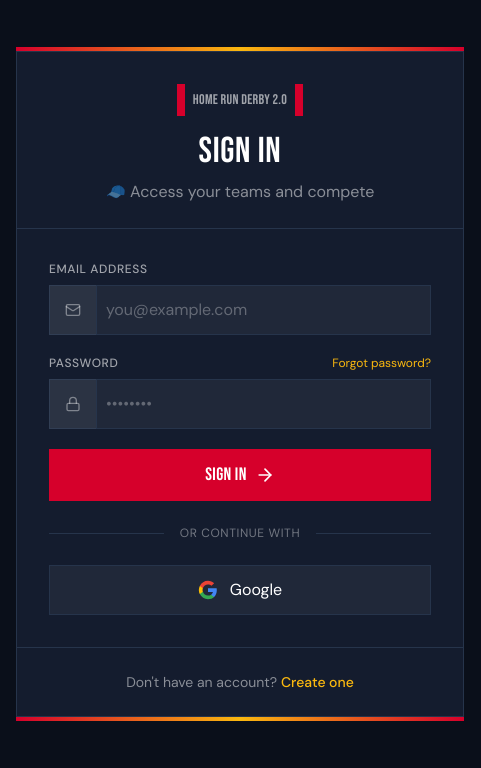
Test: Login Page › Login Submission › displays generic error for unknown errors
The width and height of the screenshot is (481, 768).
Type "test@example.com" into the field labelled "Email Address" at (240, 310), box [49, 285, 431, 335]
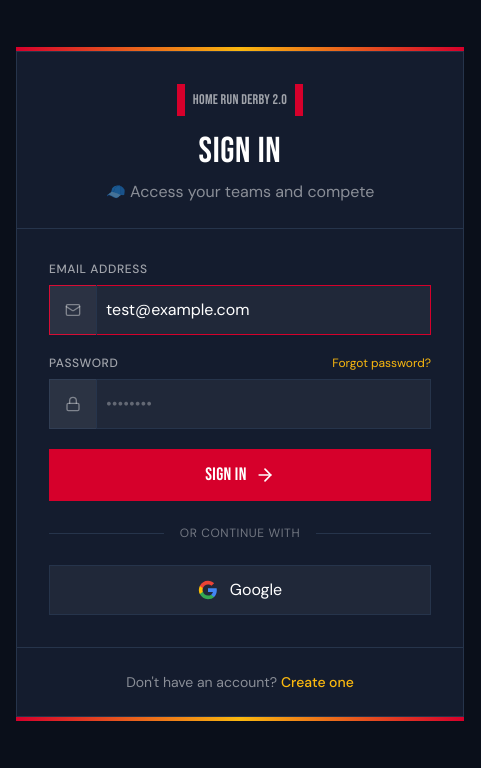
Type "password123" into the password field labelled "Password" at (240, 404), box [49, 379, 431, 429]
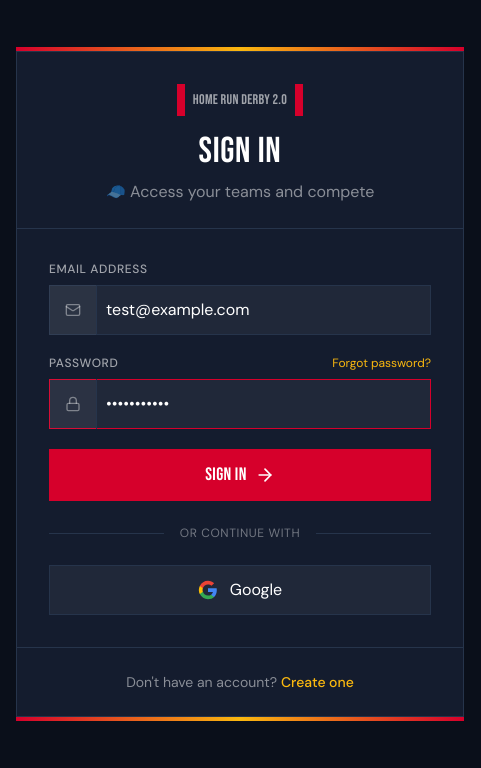
Click the button "SIGN IN" at (240, 475), box [49, 449, 431, 501]
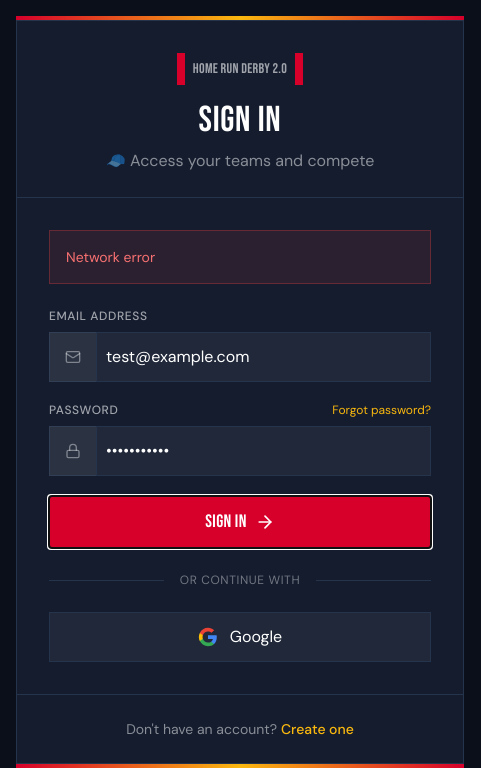
Result: the text "Network error" is shown at [66, 248, 155, 266]
